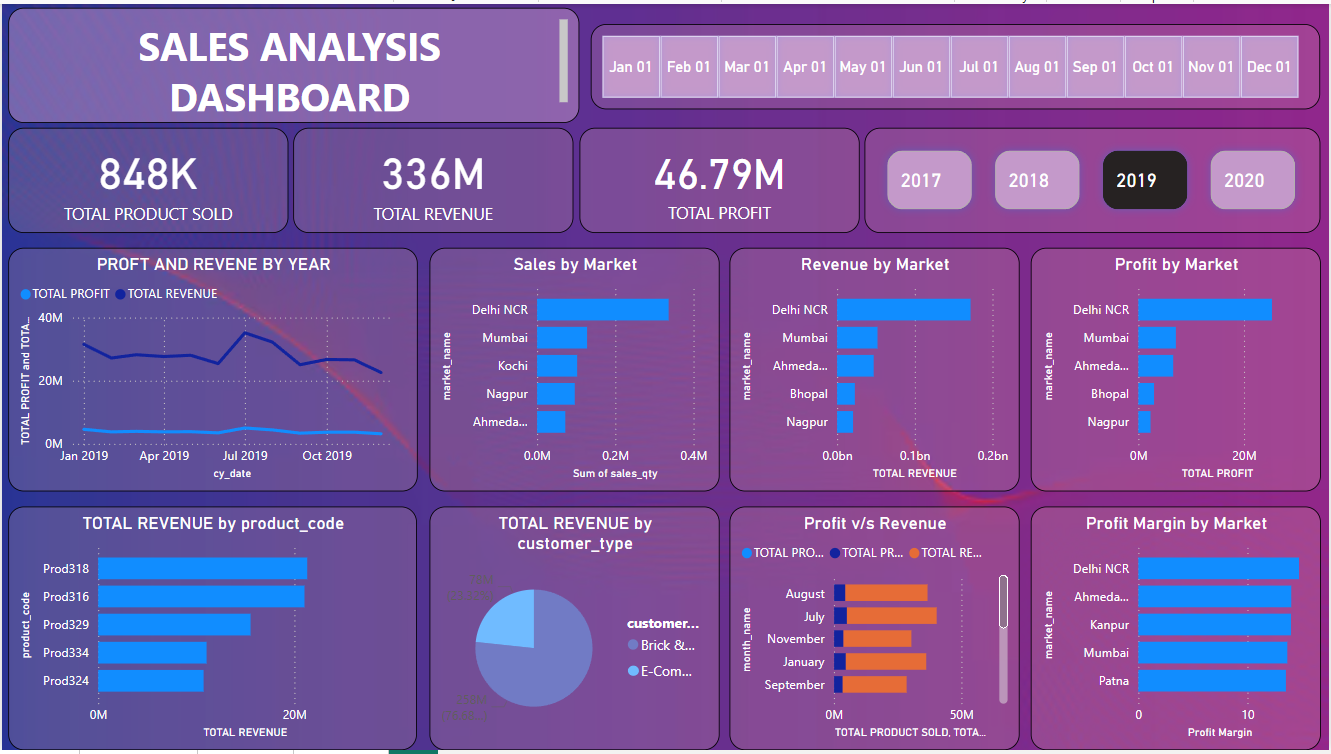

What the dashboard file says about the page in this screenshot:
{"tool":"powerbi","page":{"name":"Dashboard","canvas":[1280,720],"ordinal":0},"visuals":[{"type":"textbox","box":[6.2,3.8,551.2,111.2],"z":0},{"type":"card","fields":{"Values":["transactions_all.TOTAL PRODUCT SOLD"]},"box":[6.2,120,270,101.2],"z":1000},{"type":"card","fields":{"Values":["transactions_all.TOTAL REVENUE"]},"box":[281.2,120,270,101.2],"z":2000},{"type":"card","fields":{"Values":["transactions_all.TOTAL PROFIT"]},"box":[557.5,120,270,101.2],"z":3000},{"type":"lineChart","title":"PROFT AND REVENE BY YEAR","fields":{"Category":["transactions_all.cy_date.Variation.Date Hierarchy.Year"],"Y":["transactions_all.TOTAL PROFIT","transactions_all.TOTAL REVENUE"]},"box":[6.2,235,395,235],"z":4000},{"type":"barChart","title":"Sales by Market","fields":{"Category":["transactions_all.market_name"],"Y":["Sum(transactions_all.sales_qty)"]},"box":[412.5,235,280,235],"z":5000},{"type":"barChart","title":"Revenue by Market","fields":{"Category":["transactions_all.market_name"],"Y":["transactions_all.TOTAL REVENUE"]},"box":[702.5,235,280,235],"z":6000},{"type":"barChart","fields":{"Category":["transactions_all.product_code"],"Y":["transactions_all.TOTAL REVENUE"]},"box":[6,485,394.5,235.3],"z":7000},{"type":"pieChart","fields":{"Category":["transactions_all.customer_type"],"Y":["transactions_all.TOTAL REVENUE"]},"box":[412.6,485,279.9,235.3],"z":8000},{"type":"barChart","title":"Profit v/s Revenue","fields":{"Category":["transactions_all.month_name"],"Y":["transactions_all.TOTAL PRODUCT SOLD","transactions_all.TOTAL PROFIT","transactions_all.TOTAL REVENUE"]},"box":[702.1,485,279.9,235.3],"z":9000},{"type":"advancedSlicerVisual","fields":{"Values":["transactions_all.year"]},"box":[832.5,120,440,101.2],"z":10000},{"type":"barChart","title":"Profit by Market","fields":{"Category":["transactions_all.market_name"],"Y":["transactions_all.TOTAL PROFIT"]},"box":[992.5,235,280,235],"z":11000},{"type":"advancedSlicerVisual","fields":{"Values":["transactions_all.cy_date"]},"box":[568.8,18.8,703.8,82.5],"z":12000},{"type":"barChart","title":"Profit Margin by Market","fields":{"Y":["transactions_all.Profit Margin"],"Category":["transactions_all.market_name"]},"box":[993,485,280,235],"z":13000}]}

Visuals, with their boxes in screenshot pixels (x1, y1, x2, y2), scaled from the page's 1280x720 canvas onto the 1331x754 screenshot:
textbox: region(6, 4, 580, 120)
card - transactions_all.TOTAL PRODUCT SOLD: region(6, 126, 287, 232)
card - transactions_all.TOTAL REVENUE: region(292, 126, 573, 232)
card - transactions_all.TOTAL PROFIT: region(580, 126, 860, 232)
"PROFT AND REVENE BY YEAR" lineChart: region(6, 246, 417, 492)
"Sales by Market" barChart: region(429, 246, 720, 492)
"Revenue by Market" barChart: region(730, 246, 1022, 492)
barChart - transactions_all.product_code x transactions_all.TOTAL REVENUE: region(6, 508, 416, 753)
pieChart - transactions_all.customer_type x transactions_all.TOTAL REVENUE: region(429, 508, 720, 753)
"Profit v/s Revenue" barChart: region(730, 508, 1021, 753)
advancedSlicerVisual - transactions_all.year: region(866, 126, 1323, 232)
"Profit by Market" barChart: region(1032, 246, 1323, 492)
advancedSlicerVisual - transactions_all.cy_date: region(591, 20, 1323, 106)
"Profit Margin by Market" barChart: region(1033, 508, 1324, 753)
